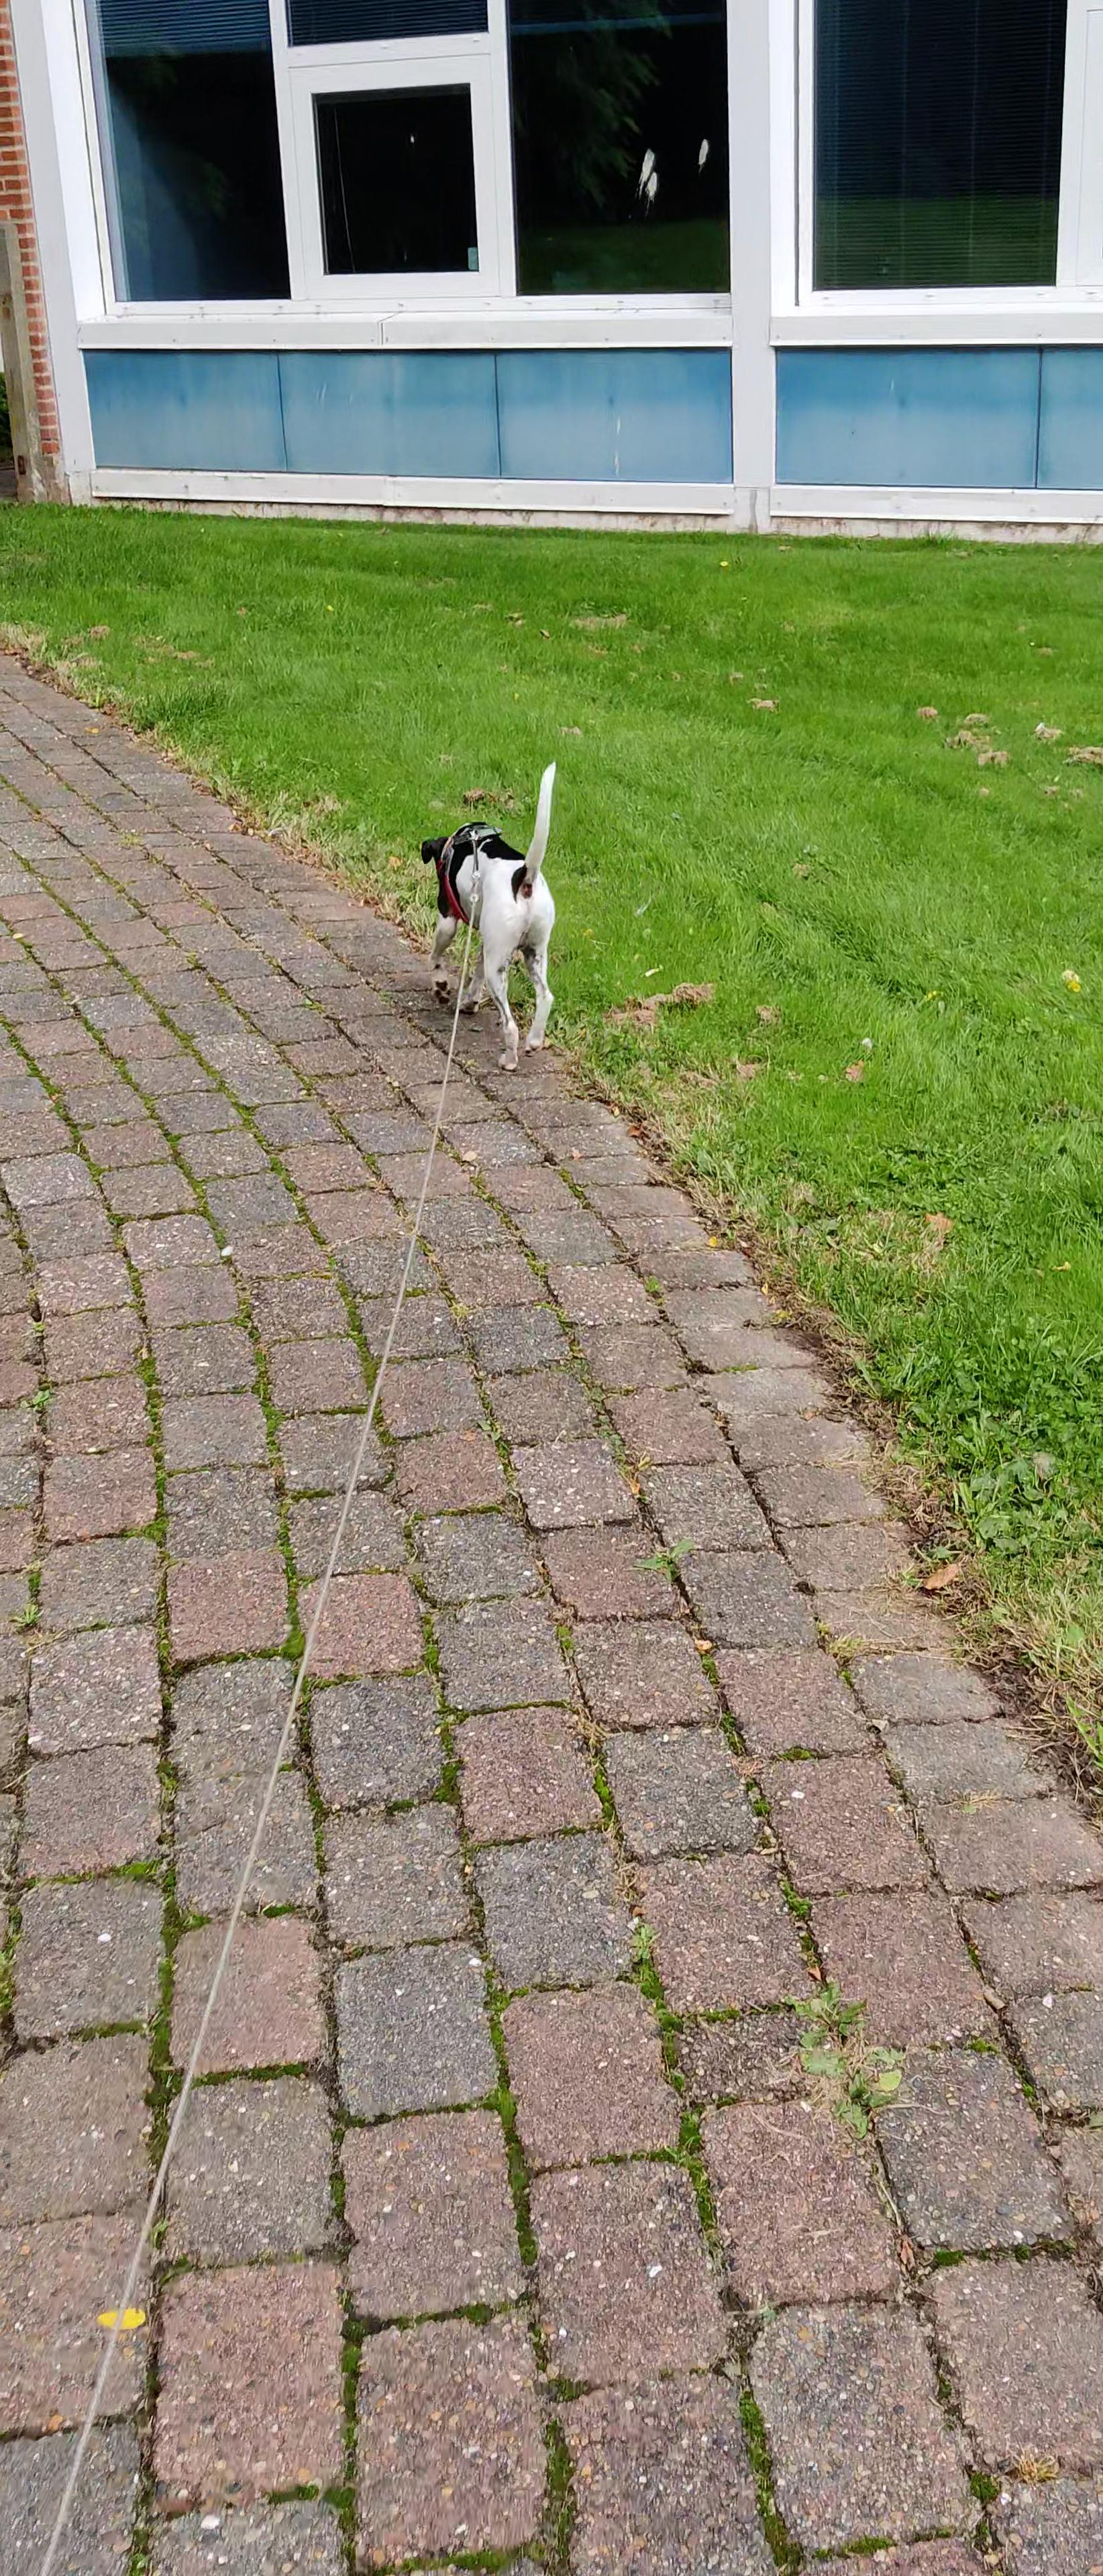Dog: (401, 752, 590, 1086)
